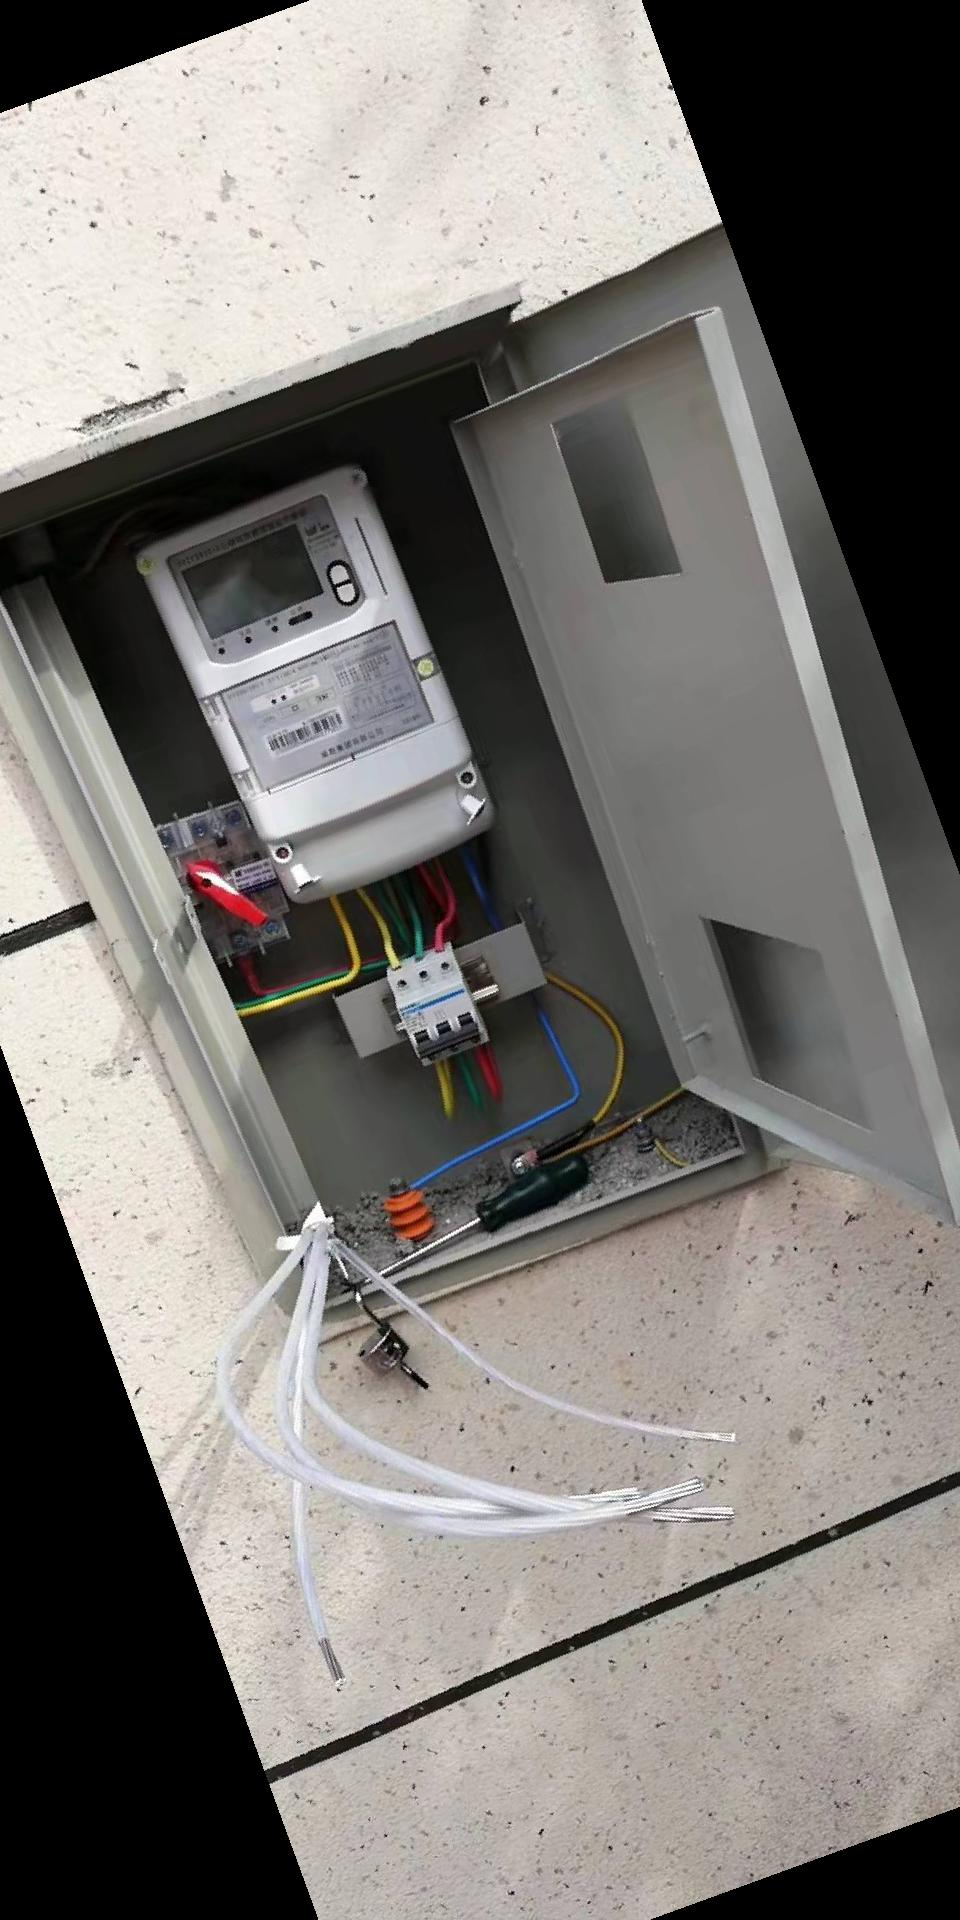digital: (140, 478, 475, 838)
